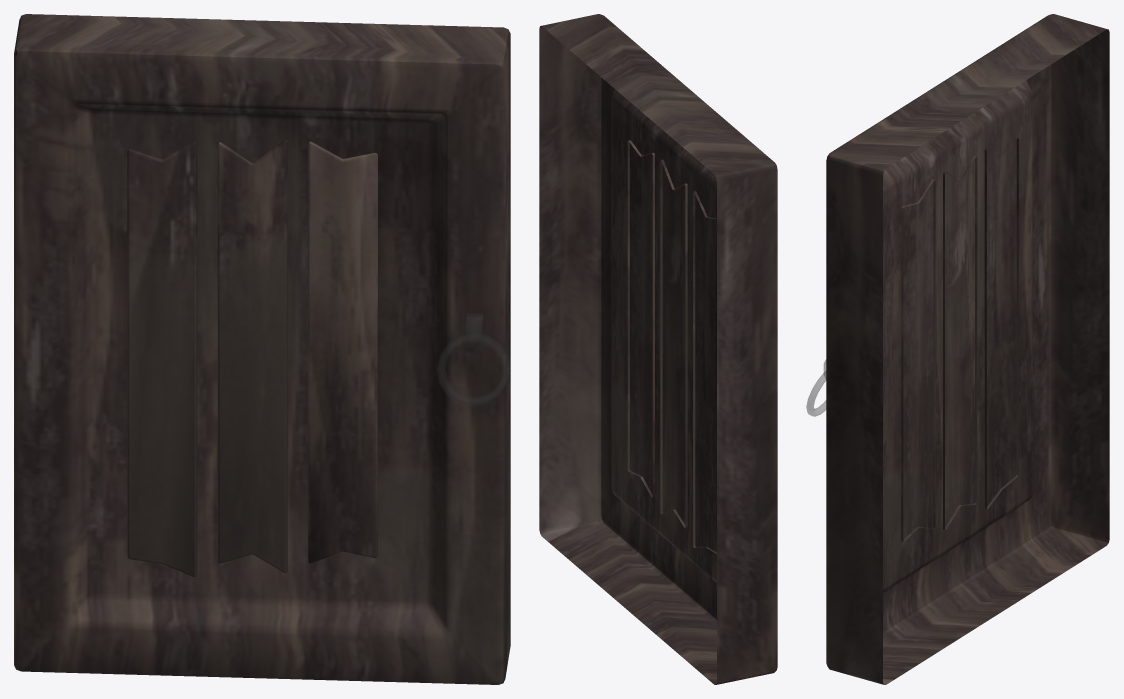
File: cabient2-door-l.glb
3 views of the same model, side by side, from view 1: azimuth 30°, elevation 25°; view 2: azimuth 150°, elevation 25°; view 3: azimuth 270°, elevation 25° (orthographic). The views are drawn at different scales.
Parts seen in each view (by area): view 1: cabeintDoor.004; view 2: cabeintDoor.004; view 3: cabeintDoor.004.
Boxes of the visible parts, x1=… form: cabeintDoor.004: x1=14, y1=14, x2=510, y2=684; cabeintDoor.004: x1=539, y1=14, x2=777, y2=684; cabeintDoor.004: x1=806, y1=14, x2=1109, y2=684.
Size of the model in its own units: 0.4786 by 0.7261 by 0.3868.
2 materials, 1 textured.
